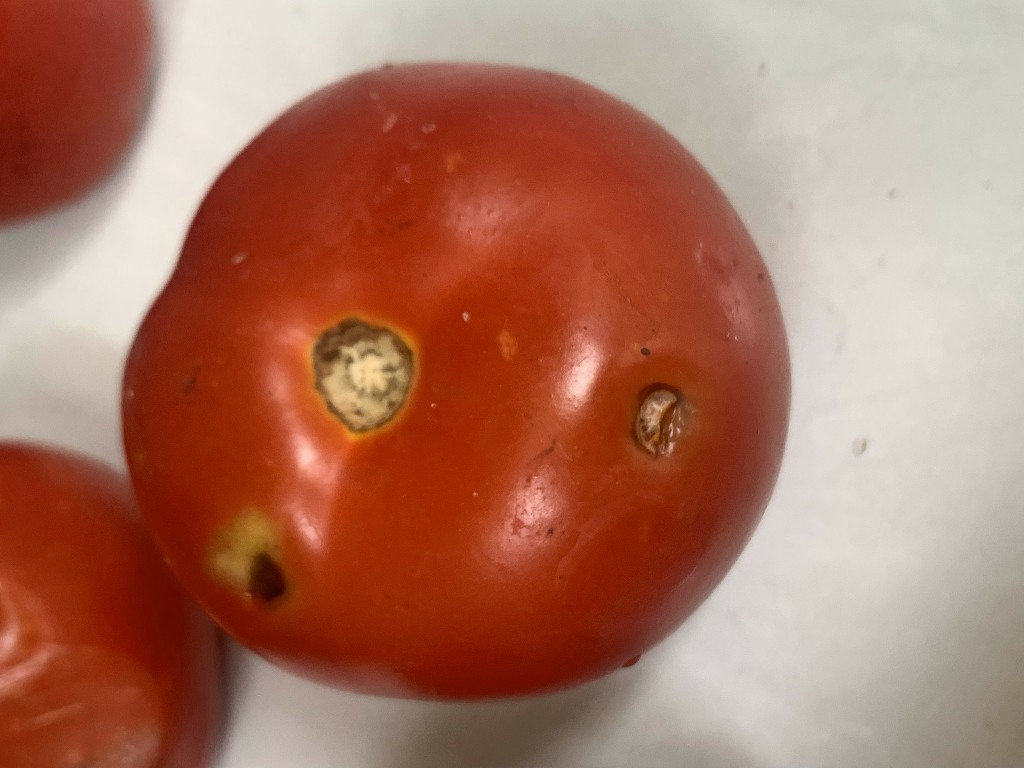NG: (94, 49, 810, 734)
